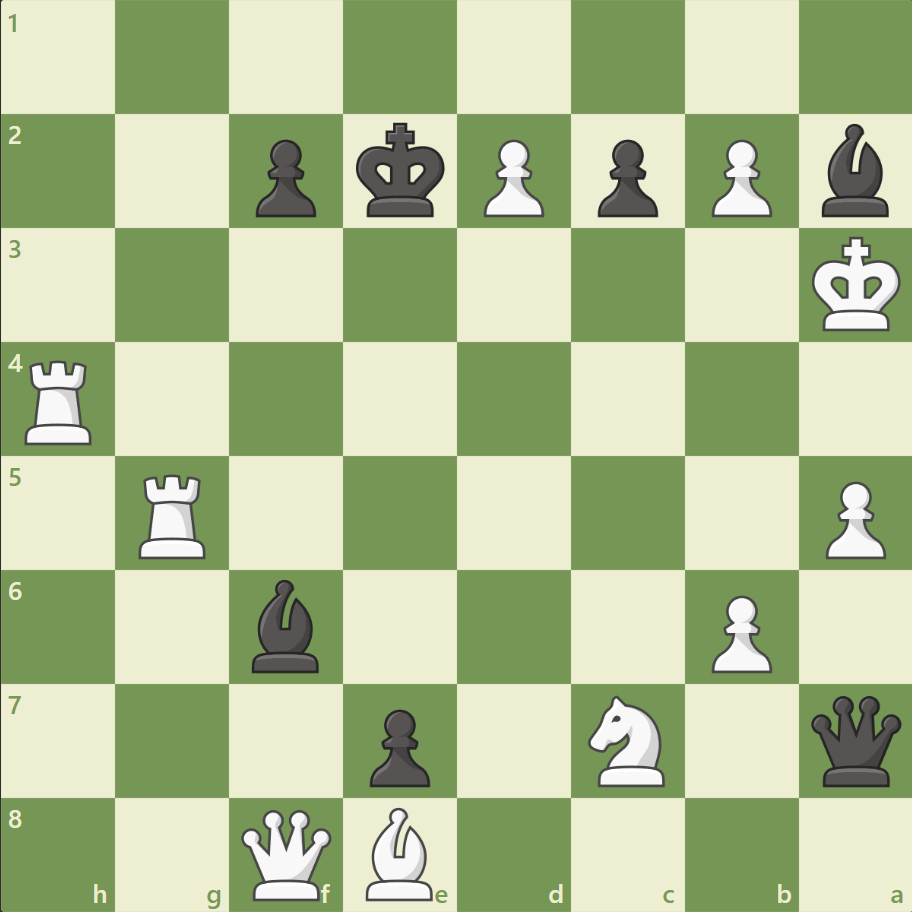B: (358, 801, 442, 904)
K: (806, 231, 906, 339)
N: (579, 688, 676, 791)
P: (701, 586, 776, 677), (701, 132, 776, 223), (474, 132, 549, 223), (815, 473, 889, 564)
Q: (237, 804, 336, 903)
R: (19, 352, 102, 449), (133, 466, 215, 563)
b: (244, 574, 328, 676), (812, 120, 896, 222)
k: (351, 117, 451, 225)
p: (247, 132, 322, 223), (361, 700, 435, 791), (588, 132, 662, 223)
q: (805, 690, 904, 789)
